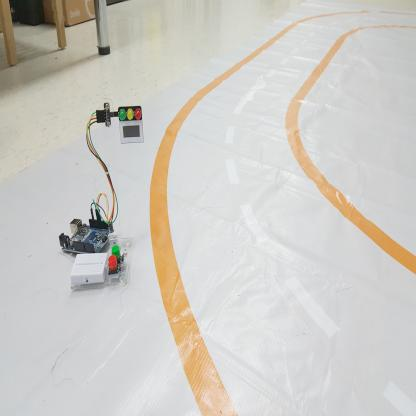traffic-light: (116, 106, 142, 122)
